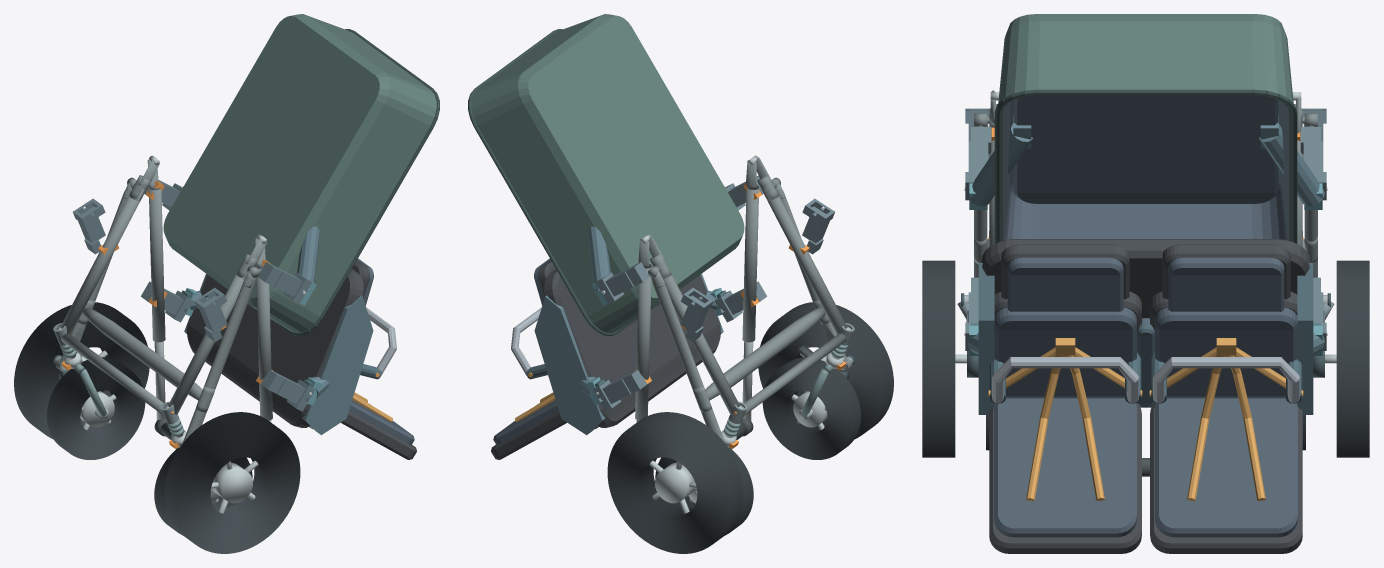
File: D27_w650_state3_wheel_L.glb
3 views of the same model, side by side, from view 1: azimuth 30°, elevation 25°; view 2: azimuth 150°, elevation 25°; view 3: azimuth 270°, elevation 25° (orthographic). The views are drawn at different scales.
Visible parts, largest first — view 1: D27_Lower, D27_Upper, RL_tire.008, FR_tire.008, RR_tire.008, V46_rearbar.009, main_upper_1.009, main_lower_1.009, V46_rear_leg_-1.009, main_upper_-1.009, main_lower_-1.009, front_fixed_round_tube.008 (+11 smaller); view 2: D27_Lower, D27_Upper, RR_tire.008, FL_tire.008, RL_tire.008, V46_rearbar.009, main_upper_-1.009, main_lower_-1.009, V46_rear_leg_1.009, main_upper_1.009, main_lower_1.009, front_fixed_round_tube.008 (+11 smaller); view 3: D27_Upper, D27_Lower, RL_tire.008, RR_tire.008, D27_Lower_Mount_M, Universal_Cabin_Receiver_M_-1, Universal_Cabin_Receiver_M_1, D27_Upper_Mount_H, Universal_Cabin_Receiver_H_1, Universal_Cabin_Receiver_H_-1.
Boxes of the visible parts, x1,y1,x2,y2 form: D27_Lower: (163,14,439,335); D27_Upper: (184,258,416,459); RL_tire.008: (164,412,300,553); FR_tire.008: (47,357,145,459); RR_tire.008: (14,302,149,439); V46_rearbar.009: (82,307,202,400); main_upper_1.009: (148,188,165,342); main_lower_1.009: (60,189,144,334); V46_rear_leg_-1.009: (182,277,255,443); main_upper_-1.009: (256,266,272,420); main_lower_-1.009: (168,273,247,414); front_fixed_round_tube.008: (61,333,163,415); D27_Lower: (468,14,744,335); D27_Upper: (491,258,723,459); RR_tire.008: (607,412,743,553); FL_tire.008: (762,357,860,459); RL_tire.008: (758,302,893,439); V46_rearbar.009: (705,307,825,400); main_upper_-1.009: (742,187,759,342); main_lower_-1.009: (763,189,847,334); V46_rear_leg_1.009: (652,277,725,443); main_upper_1.009: (635,266,651,420); main_lower_1.009: (660,273,739,414); front_fixed_round_tube.008: (744,333,846,415); D27_Upper: (978,239,1313,553); D27_Lower: (994,14,1297,243); RL_tire.008: (922,260,955,457); RR_tire.008: (1336,260,1369,457); D27_Lower_Mount_M: (964,115,1327,209); Universal_Cabin_Receiver_M_-1: (965,127,991,200); Universal_Cabin_Receiver_M_1: (1300,127,1326,200); D27_Upper_Mount_H: (964,323,1327,355); Universal_Cabin_Receiver_H_1: (1313,277,1326,350); Universal_Cabin_Receiver_H_-1: (965,277,978,350).
Size of the model in its own units: 0.8693 by 1.12 by 0.8171.
